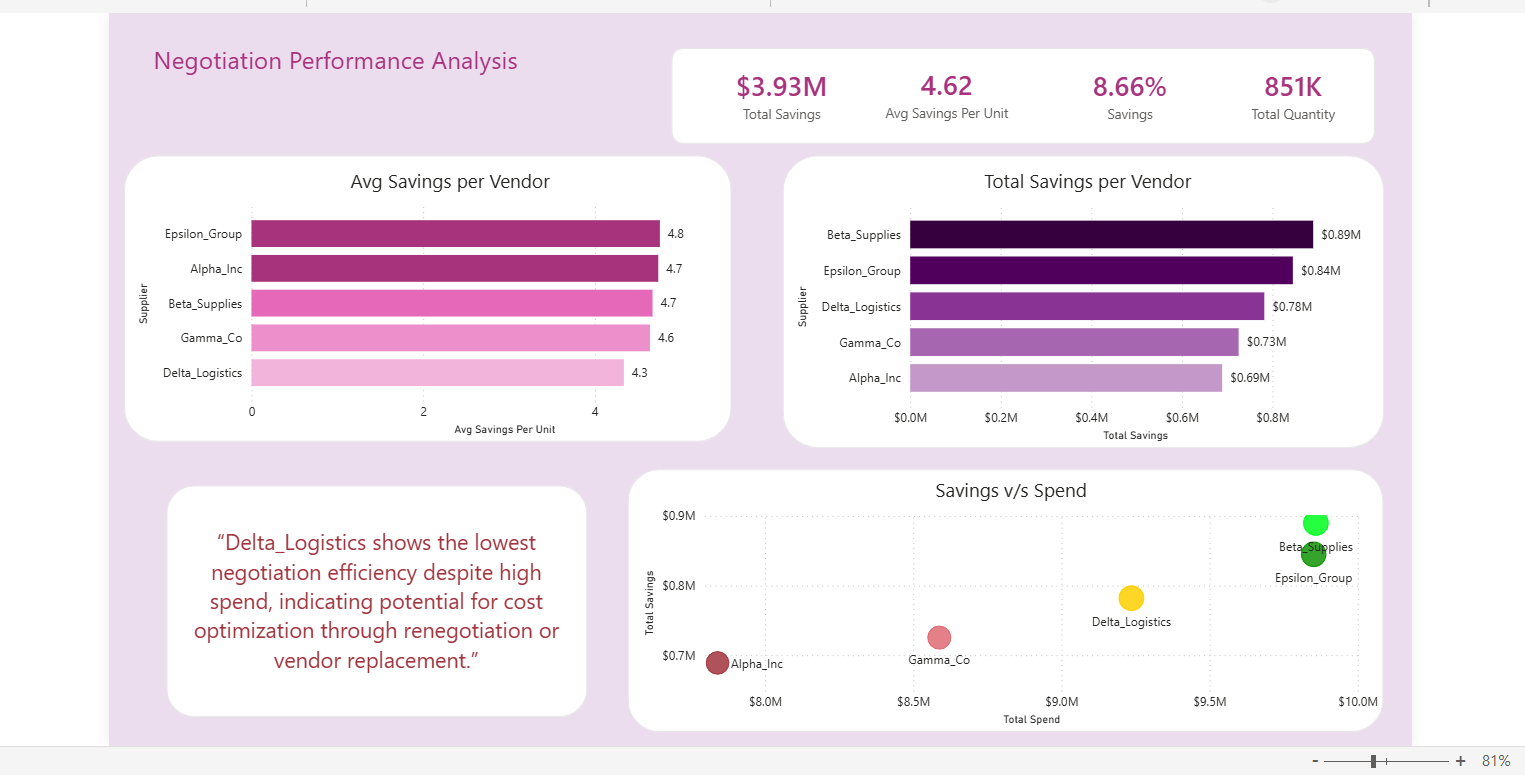

The dashboard page shown, as its layout file describes it:
{"tool":"powerbi","page":{"name":"Negotiation Performance","canvas":[1280,720],"ordinal":2},"visuals":[{"type":"shape","box":[552.7,34.2,690.9,94.2],"z":0},{"type":"cardVisual","fields":{"Data":["Key Measures.Total Savings"]},"box":[580.8,24.5,160.2,110.1],"z":1000},{"type":"cardVisual","fields":{"Data":["Key Measures.Avg Savings Per Unit"]},"box":[708,29.3,229.9,99],"z":2000},{"type":"shape","box":[14.7,139.4,596.7,281.3],"z":2500},{"type":"cardVisual","fields":{"Data":["Key Measures.Savings %"]},"box":[889,24.5,228.7,110.1],"z":3000},{"type":"cardVisual","fields":{"Data":["Key Measures.Total Quantity"]},"box":[1049.2,24.5,229.9,110.1],"z":4000},{"type":"shape","box":[661.6,139.4,590.6,287.4],"z":4500},{"type":"barChart","title":"Avg Savings per Vendor","fields":{"Category":["Procurement_cleaned.Supplier"],"Y":["Key Measures.Avg Savings Per Unit"]},"box":[23.2,152.9,623.6,267.8],"z":5000},{"type":"shape","box":[56.3,464.7,413.3,227.4],"z":5250},{"type":"shape","box":[509.9,447.6,742.3,258],"z":5500},{"type":"barChart","title":"Total Savings per Vendor","fields":{"Category":["Procurement_cleaned.Supplier"],"Y":["Key Measures.Total Savings"]},"box":[670.1,152.9,582.1,273.9],"z":6000},{"type":"scatterChart","title":"Savings v/s Spend","fields":{"X":["Key Measures.Total Spend"],"Y":["Key Measures.Total Savings"],"Size":["Key Measures.Total Quantity"],"Series":["Procurement_cleaned.Supplier"]},"box":[520.9,456.1,731.3,249.5],"z":7000},{"type":"textbox","box":[62.4,500.1,399.9,161.4],"z":8000},{"type":"textbox","box":[23.2,24.5,398.6,48.9],"z":9000}]}

Visuals, with their boxes on the page's 1280x720 design canvas (x1, y1, x2, y2). These are canvas units, not pixel positions in the 1525x775 screenshot, which may show the page scaled, cropped or inside an application window:
shape: (553,34,1244,128)
cardVisual - Key Measures.Total Savings: (581,24,741,135)
cardVisual - Key Measures.Avg Savings Per Unit: (708,29,938,128)
shape: (15,139,611,421)
cardVisual - Key Measures.Savings %: (889,24,1118,135)
cardVisual - Key Measures.Total Quantity: (1049,24,1279,135)
shape: (662,139,1252,427)
"Avg Savings per Vendor" barChart: (23,153,647,421)
shape: (56,465,470,692)
shape: (510,448,1252,706)
"Total Savings per Vendor" barChart: (670,153,1252,427)
"Savings v/s Spend" scatterChart: (521,456,1252,706)
textbox: (62,500,462,662)
textbox: (23,24,422,73)
